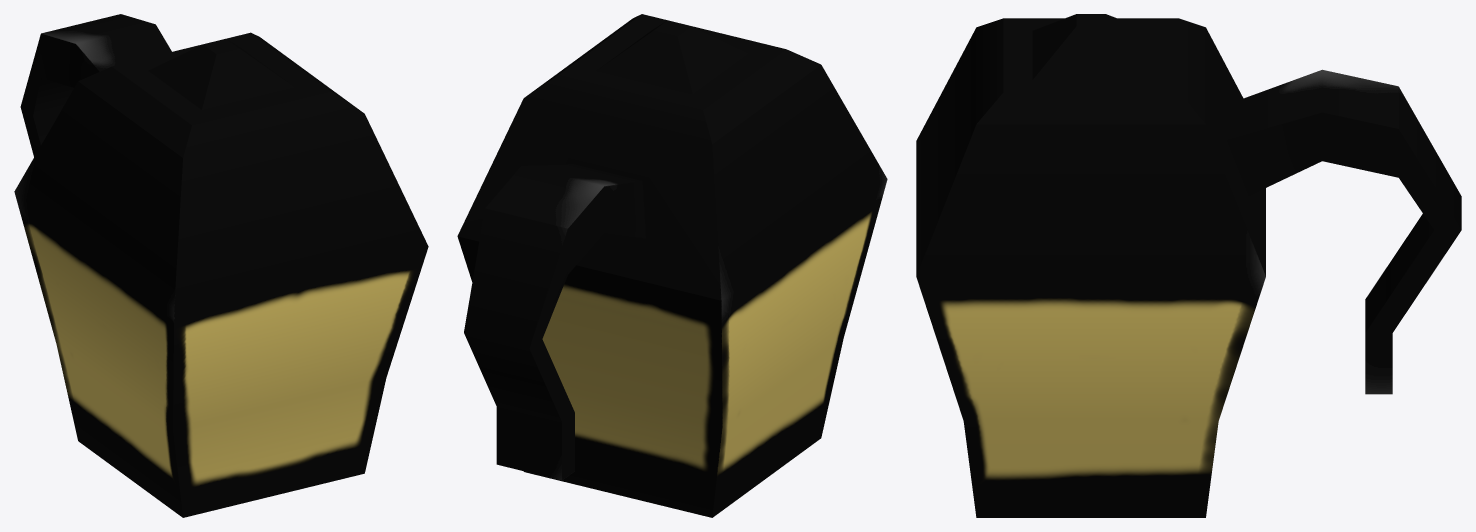
The model's file is light.fbx.
3 renders of one model, left to right at view 1: azimuth 30°, elevation 25°; view 2: azimuth 150°, elevation 25°; view 3: azimuth 270°, elevation 25°, orthographic. The views are drawn at different scales.
Parts seen in each view (by area): view 1: pCube1; view 2: pCube1; view 3: pCube1.
Part boxes in pixels (x1=…): pCube1: x1=14, y1=14, x2=428, y2=517; pCube1: x1=457, y1=14, x2=887, y2=517; pCube1: x1=916, y1=14, x2=1461, y2=517.
Size of the model in its own units: 1.4 by 2.16 by 2.38.
